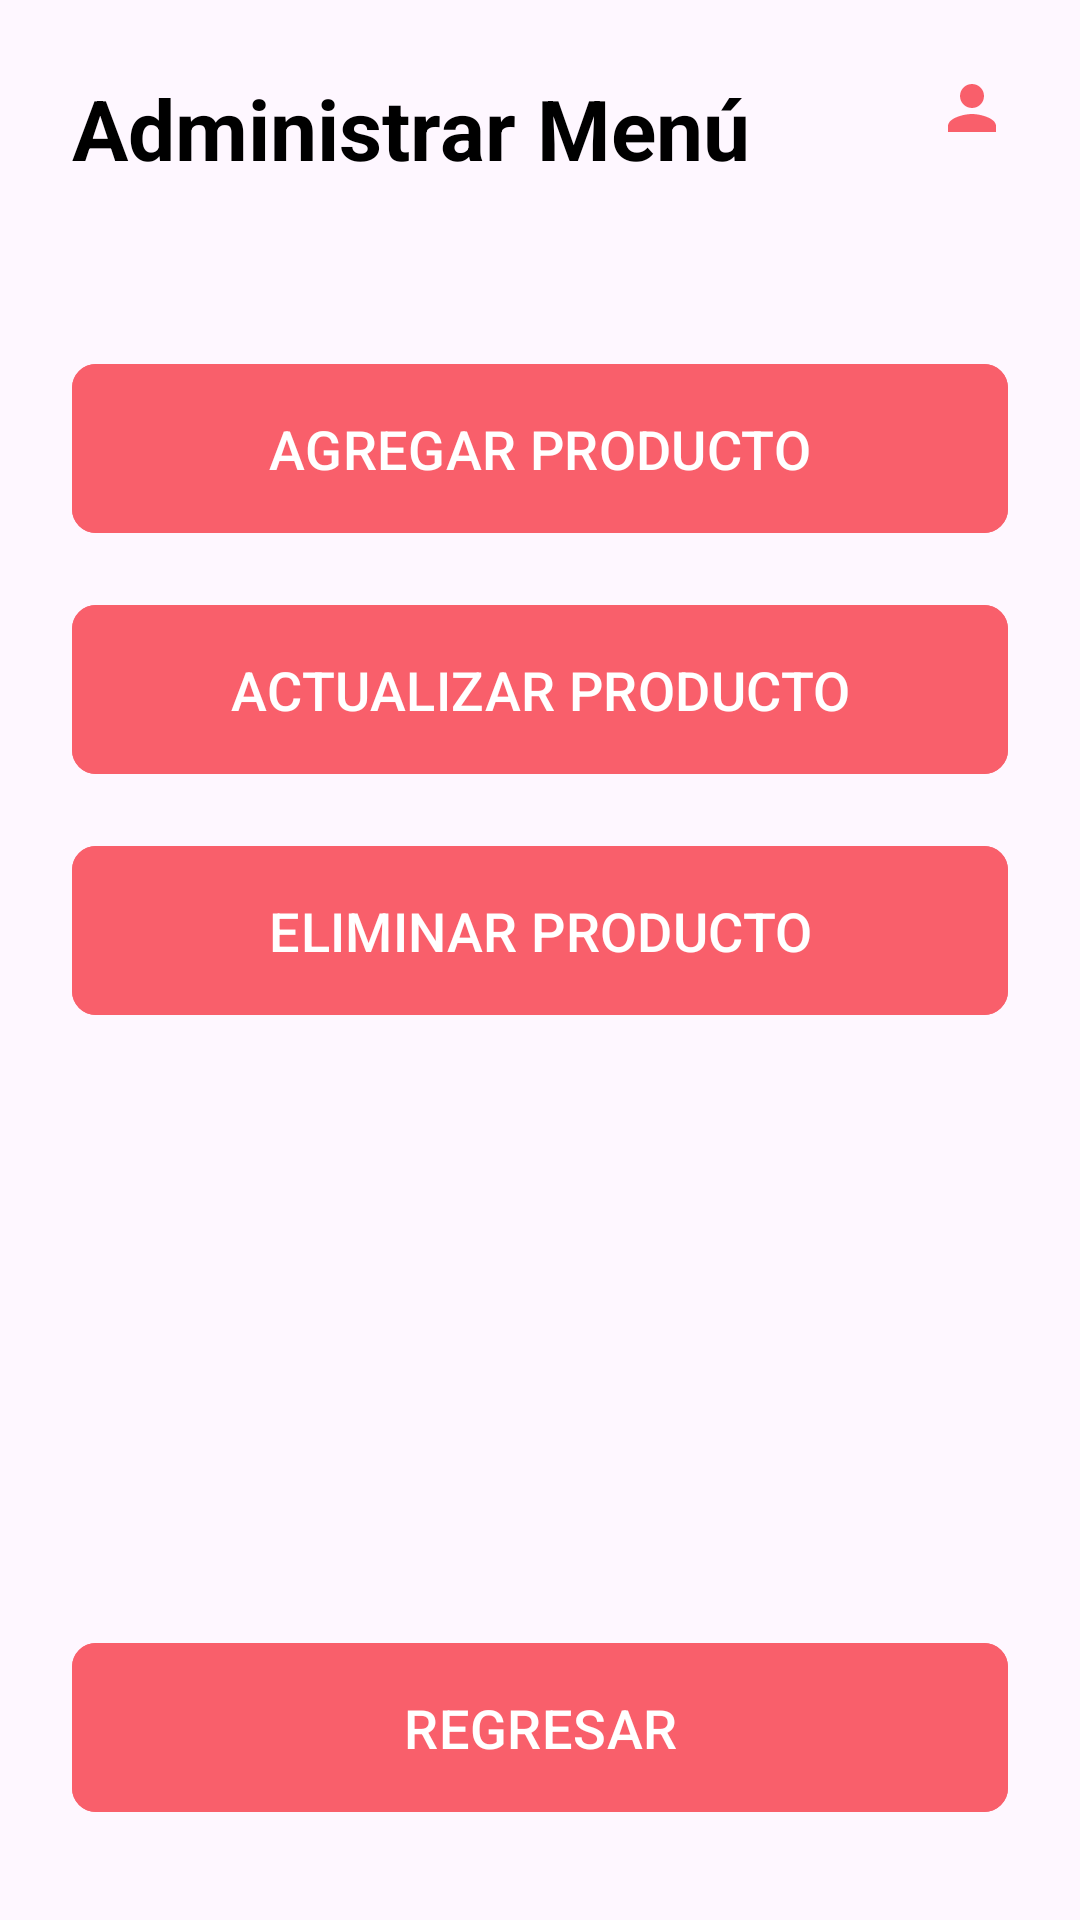

Where icons sit on this 1080x1920 app screen, as (x1,y1,x2,y2):
usuario: (948,84,996,132)
